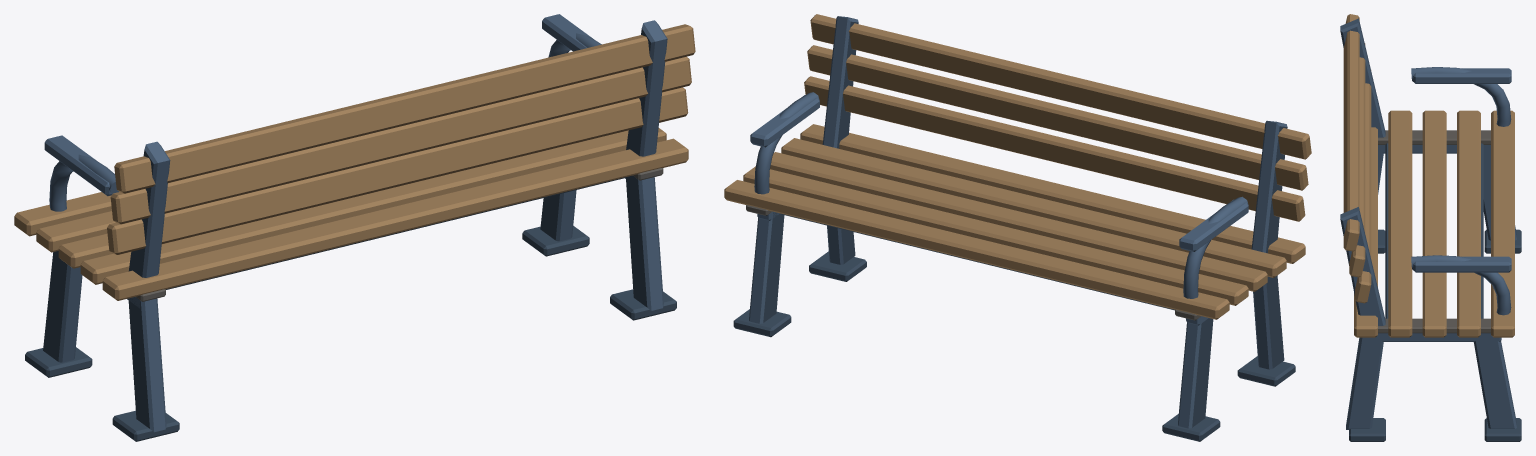
The model's file is bench.glb.
3 views of the same model, side by side, from view 1: azimuth 30°, elevation 25°; view 2: azimuth 150°, elevation 25°; view 3: azimuth 270°, elevation 25° (orthographic). The views are drawn at different scales.
Visible parts, largest first — view 1: bench.native.L0.bench.back.slat-2.10, bench.native.L0.bench.back.slat-1.9, bench.native.L0.bench.back.slat-0.8, bench.native.L0.bench.seat.slat-4.7, bench.native.L0.bench.leg-0.78.0, bench.native.L0.bench.leg0.78.1, bench.native.L0.bench.seat.slat-3.6, bench.native.L0.bench.seat.slat-0.3, bench.native.L0.bench.seat.slat-1.4, bench.native.L0.bench.seat.slat-2.5, bench.native.L0.bench.seat.underframe.2; view 2: bench.native.L0.bench.back.slat-1.9, bench.native.L0.bench.back.slat-2.10, bench.native.L0.bench.back.slat-0.8, bench.native.L0.bench.leg-0.78.0, bench.native.L0.bench.seat.slat-0.3, bench.native.L0.bench.leg0.78.1, bench.native.L0.bench.seat.slat-2.5, bench.native.L0.bench.seat.slat-3.6, bench.native.L0.bench.seat.slat-1.4, bench.native.L0.bench.seat.slat-4.7, bench.native.L0.bench.seat.underframe.2; view 3: bench.native.L0.bench.leg0.78.1, bench.native.L0.bench.seat.slat-3.6, bench.native.L0.bench.seat.slat-2.5, bench.native.L0.bench.seat.slat-1.4, bench.native.L0.bench.leg-0.78.0, bench.native.L0.bench.seat.slat-0.3, bench.native.L0.bench.back.slat-2.10, bench.native.L0.bench.seat.underframe.2, bench.native.L0.bench.seat.slat-4.7, bench.native.L0.bench.back.slat-1.9, bench.native.L0.bench.back.slat-0.8.
Part boxes in pixels (x1=…): bench.native.L0.bench.back.slat-2.10: x1=114, y1=24, x2=695, y2=193; bench.native.L0.bench.back.slat-1.9: x1=110, y1=56, x2=691, y2=224; bench.native.L0.bench.back.slat-0.8: x1=107, y1=87, x2=688, y2=254; bench.native.L0.bench.seat.slat-4.7: x1=102, y1=138, x2=688, y2=300; bench.native.L0.bench.leg-0.78.0: x1=25, y1=135, x2=179, y2=441; bench.native.L0.bench.leg0.78.1: x1=522, y1=14, x2=676, y2=320; bench.native.L0.bench.seat.slat-3.6: x1=80, y1=128, x2=666, y2=284; bench.native.L0.bench.seat.slat-0.3: x1=14, y1=192, x2=111, y2=236; bench.native.L0.bench.seat.slat-1.4: x1=36, y1=211, x2=115, y2=252; bench.native.L0.bench.seat.slat-2.5: x1=58, y1=233, x2=112, y2=268; bench.native.L0.bench.seat.underframe.2: x1=135, y1=168, x2=663, y2=301; bench.native.L0.bench.back.slat-1.9: x1=807, y1=45, x2=1308, y2=190; bench.native.L0.bench.back.slat-2.10: x1=810, y1=14, x2=1311, y2=159; bench.native.L0.bench.back.slat-0.8: x1=804, y1=76, x2=1305, y2=221; bench.native.L0.bench.leg-0.78.0: x1=1162, y1=120, x2=1295, y2=441; bench.native.L0.bench.seat.slat-0.3: x1=724, y1=180, x2=1229, y2=319; bench.native.L0.bench.leg0.78.1: x1=733, y1=16, x2=866, y2=337; bench.native.L0.bench.seat.slat-2.5: x1=770, y1=152, x2=1267, y2=291; bench.native.L0.bench.seat.slat-3.6: x1=781, y1=138, x2=1286, y2=277; bench.native.L0.bench.seat.slat-1.4: x1=743, y1=166, x2=1248, y2=305; bench.native.L0.bench.seat.slat-4.7: x1=800, y1=124, x2=1305, y2=263; bench.native.L0.bench.seat.underframe.2: x1=746, y1=205, x2=1200, y2=320; bench.native.L0.bench.leg0.78.1: x1=1340, y1=207, x2=1521, y2=441; bench.native.L0.bench.seat.slat-3.6: x1=1388, y1=110, x2=1412, y2=337; bench.native.L0.bench.seat.slat-2.5: x1=1422, y1=110, x2=1446, y2=337; bench.native.L0.bench.seat.slat-1.4: x1=1457, y1=110, x2=1480, y2=337; bench.native.L0.bench.leg-0.78.0: x1=1340, y1=18, x2=1521, y2=253; bench.native.L0.bench.seat.slat-0.3: x1=1491, y1=110, x2=1514, y2=337; bench.native.L0.bench.back.slat-2.10: x1=1343, y1=14, x2=1359, y2=251; bench.native.L0.bench.seat.underframe.2: x1=1378, y1=130, x2=1490, y2=333; bench.native.L0.bench.seat.slat-4.7: x1=1354, y1=127, x2=1377, y2=337; bench.native.L0.bench.back.slat-1.9: x1=1349, y1=43, x2=1365, y2=277; bench.native.L0.bench.back.slat-0.8: x1=1355, y1=70, x2=1371, y2=303.
Size of the model in its own units: 1.8 by 0.87 by 0.635.
